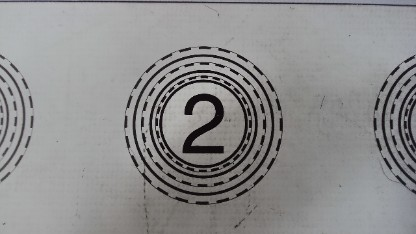2r: (120, 46, 284, 205)
